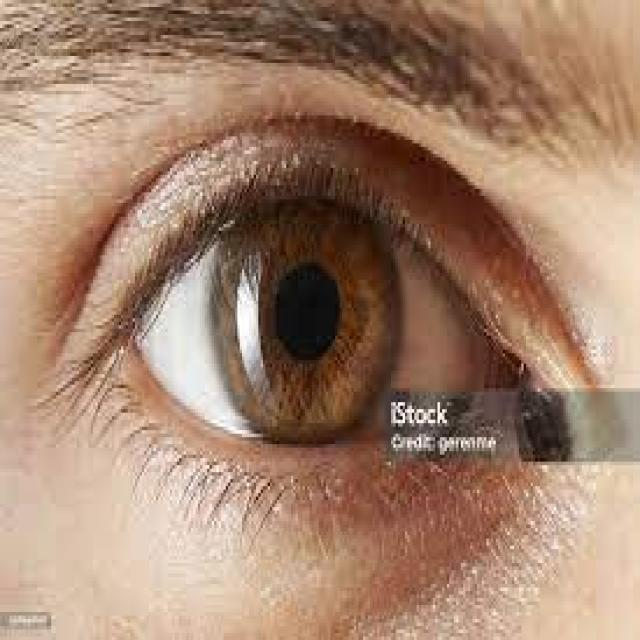Eyes-iris: (206, 176, 408, 458)
